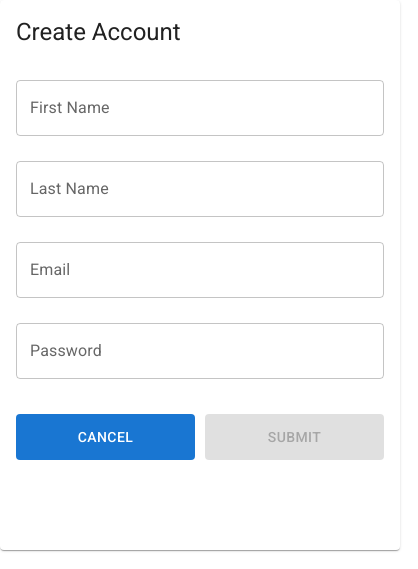
should show the error message,if entered user is already available
Expected: the button with test id "submit" is disabled, [205,414,384,460]
Step 1. Type "test" into the field labelled "First Name" → [200, 108], box [16,80,384,136]
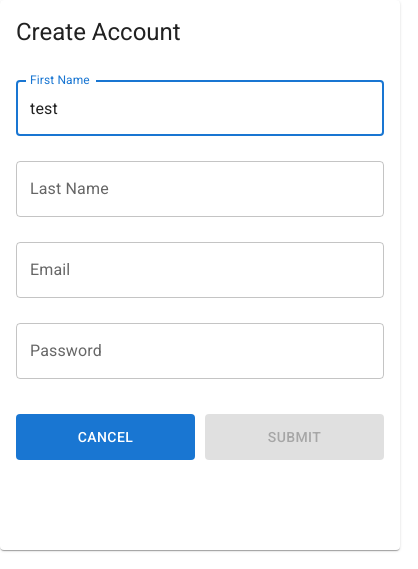
Step 2. Type "hello" into the field labelled "Last Name" → [200, 189], box [16,161,384,217]
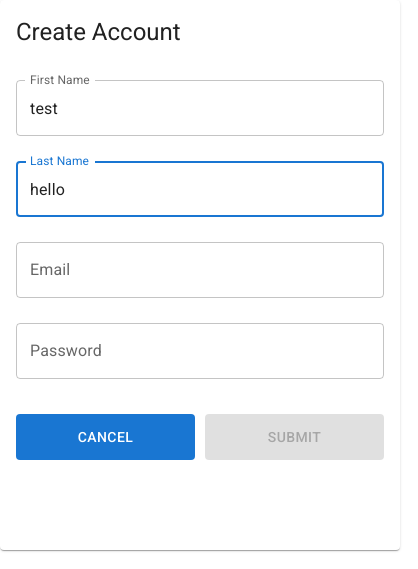
Step 3. Type "test@gmail.com" into the field labelled "Email" → [200, 270], box [16,242,384,298]
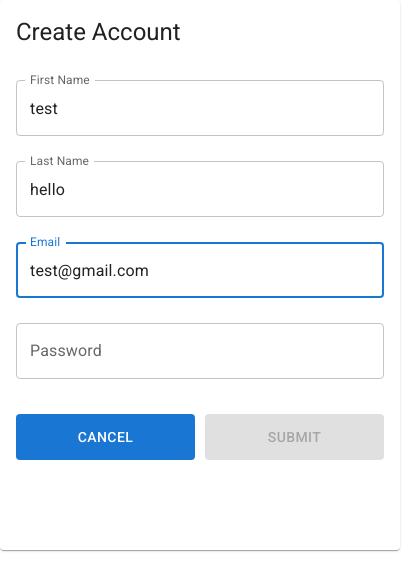
Step 4. Type "test@1234" into the field labelled "Password" → [200, 351], box [16,323,384,379]
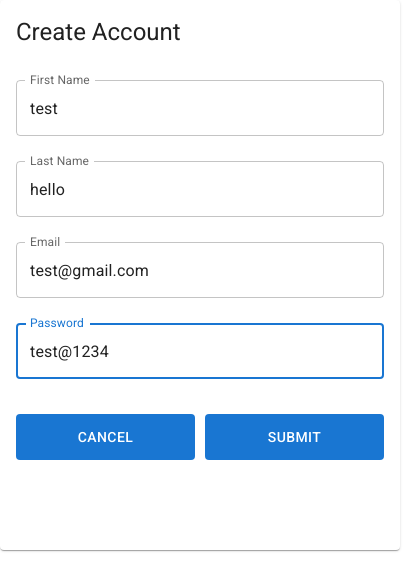
Step 5. Click the button with test id "submit" → [294, 437], box [205,414,384,460]
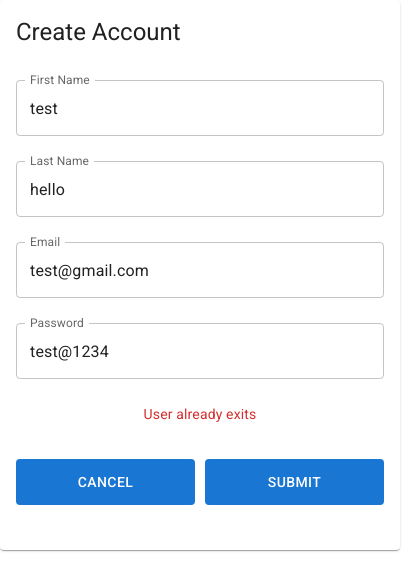
Expected: the text with test id "error" reads "User already exits", [144,406,256,422]
